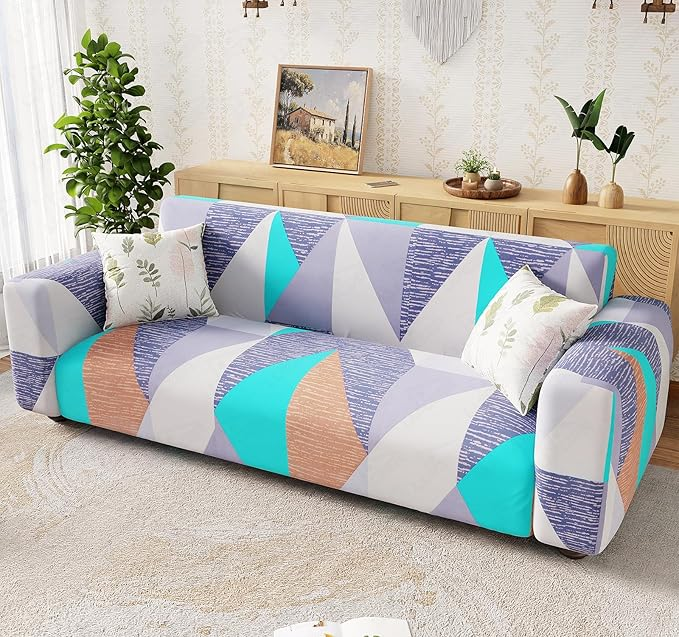3seatersofa: (5, 196, 671, 562)
backrest: (161, 197, 614, 356)
leftarmrest: (533, 297, 672, 554)
leg: (548, 546, 588, 559), (48, 415, 68, 426)
pillow: (463, 266, 595, 414), (95, 224, 215, 324)
rightarmrest: (5, 252, 105, 415)
seat: (56, 316, 534, 536)
